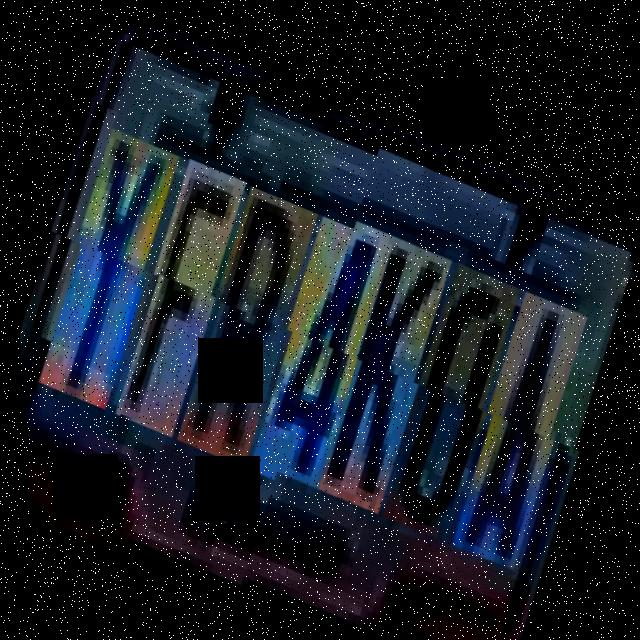0: (369, 264, 537, 546)
4: (235, 211, 409, 495)
A: (436, 290, 604, 573)
F: (102, 158, 264, 438)
K: (303, 237, 471, 520)
R: (164, 183, 337, 467)
Y: (25, 128, 198, 412)
